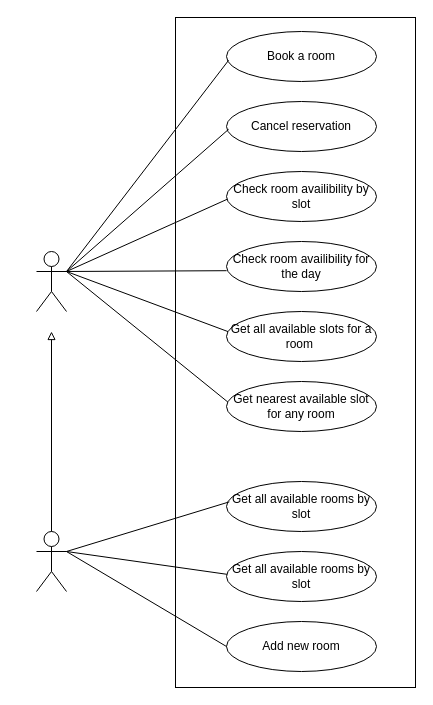
This 433x705 diagram has some shape labels left out. Here are the shapes that lost their labels. From the top down, the centre of each, then its label:
[51,281]: Actor
[51,561]: Super admin
